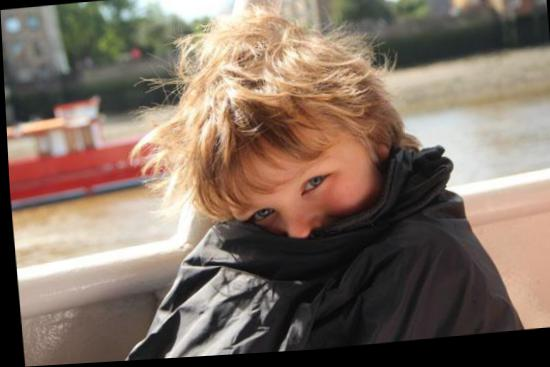WRONG: (232, 152, 359, 280)
